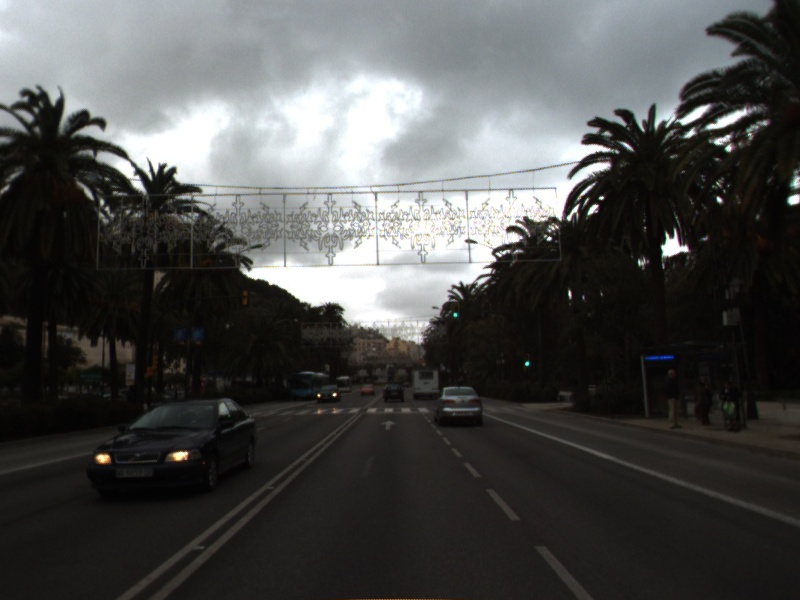STRAIGHT: (377, 418, 400, 432)
